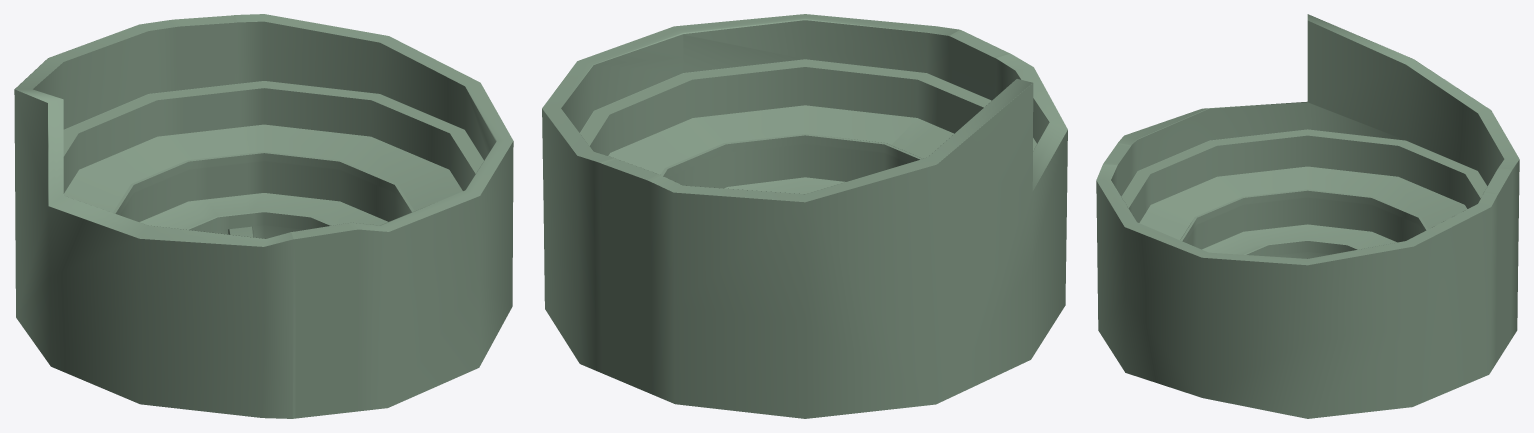
Rendered from Arena0.fbx.
3 views of the same model, side by side, from view 1: azimuth 30°, elevation 25°; view 2: azimuth 150°, elevation 25°; view 3: azimuth 270°, elevation 25° (orthographic). The views are drawn at different scales.
Parts seen in each view (by area): view 1: Arena; view 2: Arena; view 3: Arena.
Part boxes in pixels (left/top/right/bottom): Arena: left=14, top=14, right=513, bottom=418; Arena: left=542, top=14, right=1067, bottom=418; Arena: left=1096, top=14, right=1519, bottom=418.
Bounding box in the file's own units: 11947 × 7056 × 11934.
